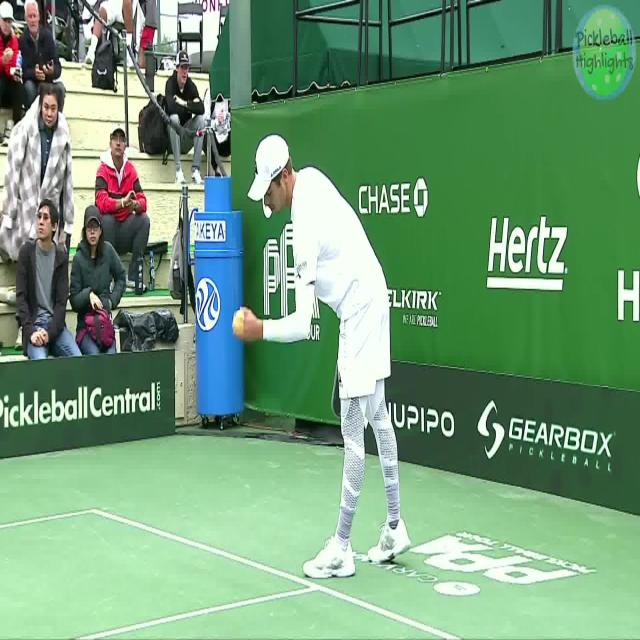ball: (230, 311, 250, 339)
